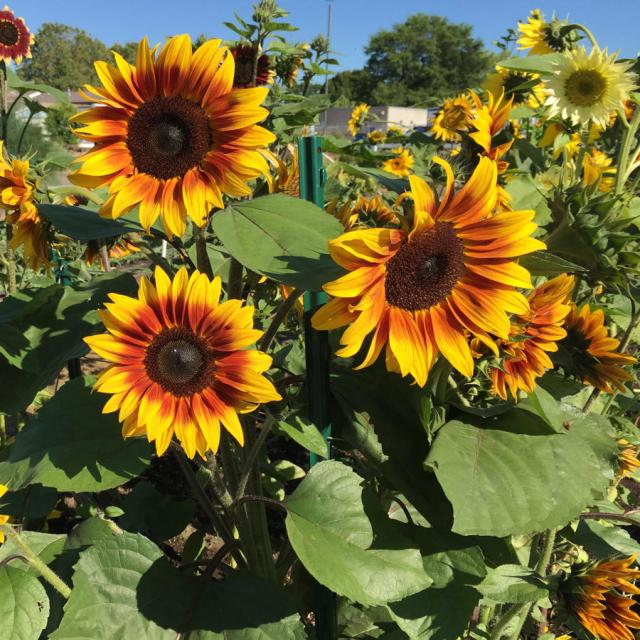sunflower: (307, 152, 538, 404), (64, 31, 279, 240), (79, 259, 287, 459), (526, 39, 636, 137), (567, 543, 640, 640), (424, 91, 493, 145), (0, 3, 41, 76)
